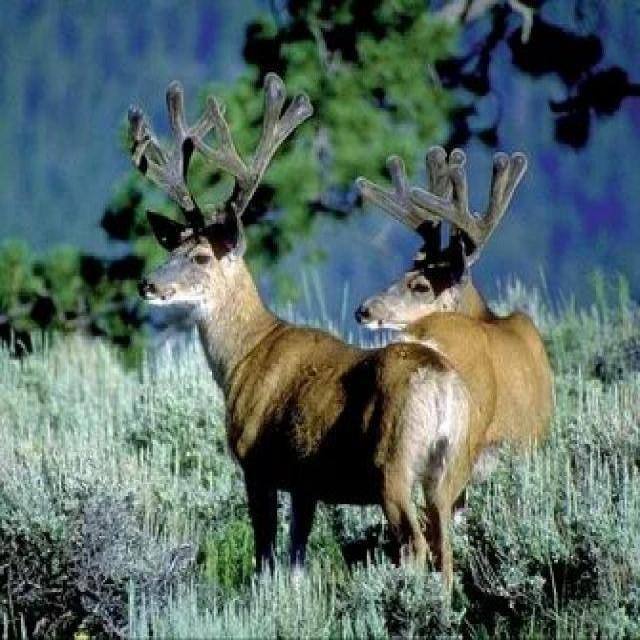deer: (73, 115, 452, 558), (275, 151, 602, 470)
